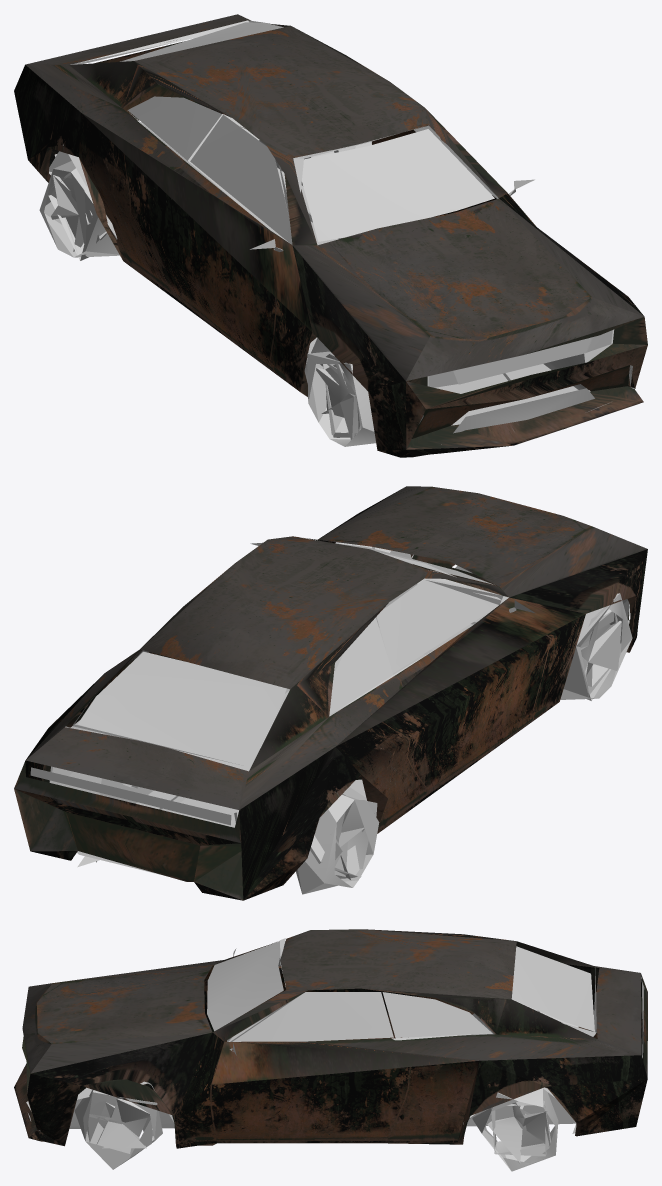
Rendered from car3-lod3.fbx.
3 renders of one model, top to bottom at view 1: azimuth 30°, elevation 25°; view 2: azimuth 150°, elevation 25°; view 3: azimuth 270°, elevation 25°, orthographic. The views are drawn at different scales.
Parts seen in each view (by area): view 1: car3-lod3; view 2: car3-lod3; view 3: car3-lod3.
Boxes of the visible parts, bbox=[...] form: car3-lod3: bbox=[14, 14, 647, 457]; car3-lod3: bbox=[14, 486, 647, 900]; car3-lod3: bbox=[14, 929, 647, 1171].
Size of the model in its own units: 1.83 by 1.26 by 4.42.
